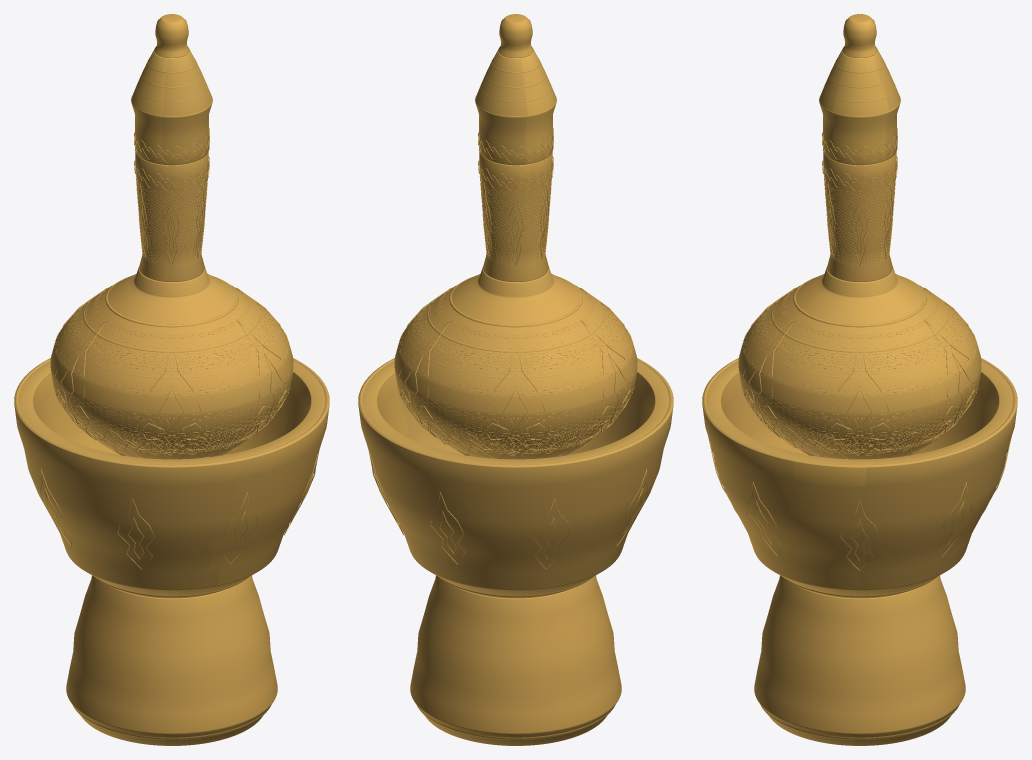
Rendered from Thai_Libation_Vessel_FINAL.glb.
The picture shows the model from 3 angles, left to right: view 1: azimuth 30°, elevation 25°; view 2: azimuth 150°, elevation 25°; view 3: azimuth 270°, elevation 25°; orthographic projection.
Visible parts, largest first — view 1: SM_Bowl, SM_VesselBody, SM_Pedestal, SM_VesselNeck, SM_Lid, HP_ORN_GlobeCrosshatchSource, HP_ORN_GlobeHeroMotif, HP_ORN_NeckFieldSource, HP_ORN_BowlFlameBand, SM_Finial, SM_Bowl_RolledRim, HP_ORN_NeckLotus (+4 smaller); view 2: SM_Bowl, SM_VesselBody, SM_Pedestal, SM_VesselNeck, SM_Lid, HP_ORN_GlobeCrosshatchSource, HP_ORN_GlobeHeroMotif, HP_ORN_NeckFieldSource, HP_ORN_BowlFlameBand, SM_Finial, SM_Bowl_RolledRim, HP_ORN_NeckLotus (+4 smaller); view 3: SM_Bowl, SM_VesselBody, SM_Pedestal, SM_VesselNeck, SM_Lid, HP_ORN_GlobeCrosshatchSource, HP_ORN_GlobeHeroMotif, HP_ORN_NeckFieldSource, SM_Finial, SM_Bowl_RolledRim, HP_ORN_BowlFlameBand, HP_ORN_NeckLotus (+4 smaller).
Boxes of the visible parts, x1,y1,x2,y2 form: SM_Bowl: [14, 358, 329, 598]; SM_VesselBody: [50, 266, 293, 459]; SM_Pedestal: [66, 575, 277, 745]; SM_VesselNeck: [135, 152, 208, 282]; SM_Lid: [131, 50, 212, 165]; HP_ORN_GlobeCrosshatchSource: [50, 286, 293, 454]; HP_ORN_GlobeHeroMotif: [55, 287, 288, 456]; HP_ORN_NeckFieldSource: [136, 178, 207, 265]; HP_ORN_BowlFlameBand: [39, 453, 318, 569]; SM_Finial: [154, 14, 189, 57]; SM_Bowl_RolledRim: [15, 358, 328, 468]; HP_ORN_NeckLotus: [139, 182, 204, 264]; SM_Bowl: [358, 358, 673, 598]; SM_VesselBody: [394, 266, 637, 459]; SM_Pedestal: [410, 575, 621, 745]; SM_VesselNeck: [479, 152, 552, 282]; SM_Lid: [475, 50, 556, 165]; HP_ORN_GlobeCrosshatchSource: [394, 286, 637, 454]; HP_ORN_GlobeHeroMotif: [399, 287, 632, 456]; HP_ORN_NeckFieldSource: [479, 176, 551, 265]; HP_ORN_BowlFlameBand: [369, 453, 648, 569]; SM_Finial: [498, 14, 533, 57]; SM_Bowl_RolledRim: [359, 358, 672, 468]; HP_ORN_NeckLotus: [483, 182, 548, 264]; SM_Bowl: [702, 358, 1017, 598]; SM_VesselBody: [738, 266, 981, 459]; SM_Pedestal: [754, 575, 965, 745]; SM_VesselNeck: [823, 152, 896, 281]; SM_Lid: [819, 50, 900, 165]; HP_ORN_GlobeCrosshatchSource: [738, 286, 981, 454]; HP_ORN_GlobeHeroMotif: [743, 287, 976, 456]; HP_ORN_NeckFieldSource: [824, 178, 895, 265]; SM_Finial: [842, 14, 877, 57]; SM_Bowl_RolledRim: [703, 358, 1016, 468]; HP_ORN_BowlFlameBand: [708, 437, 1011, 571]; HP_ORN_NeckLotus: [827, 182, 892, 264].
Bounding box in the file's own units: 0.4154 × 1 × 0.4154.
1 material, 1 textured.
